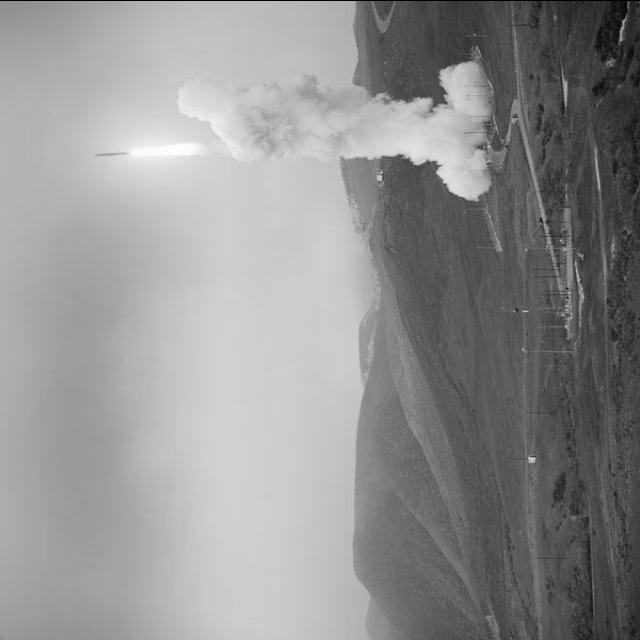Missile: (90, 149, 136, 157)
